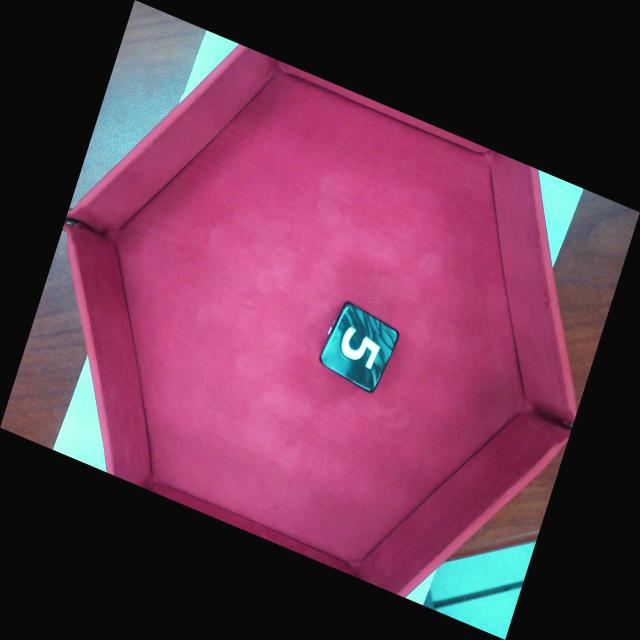dice: (318, 299, 400, 395)
